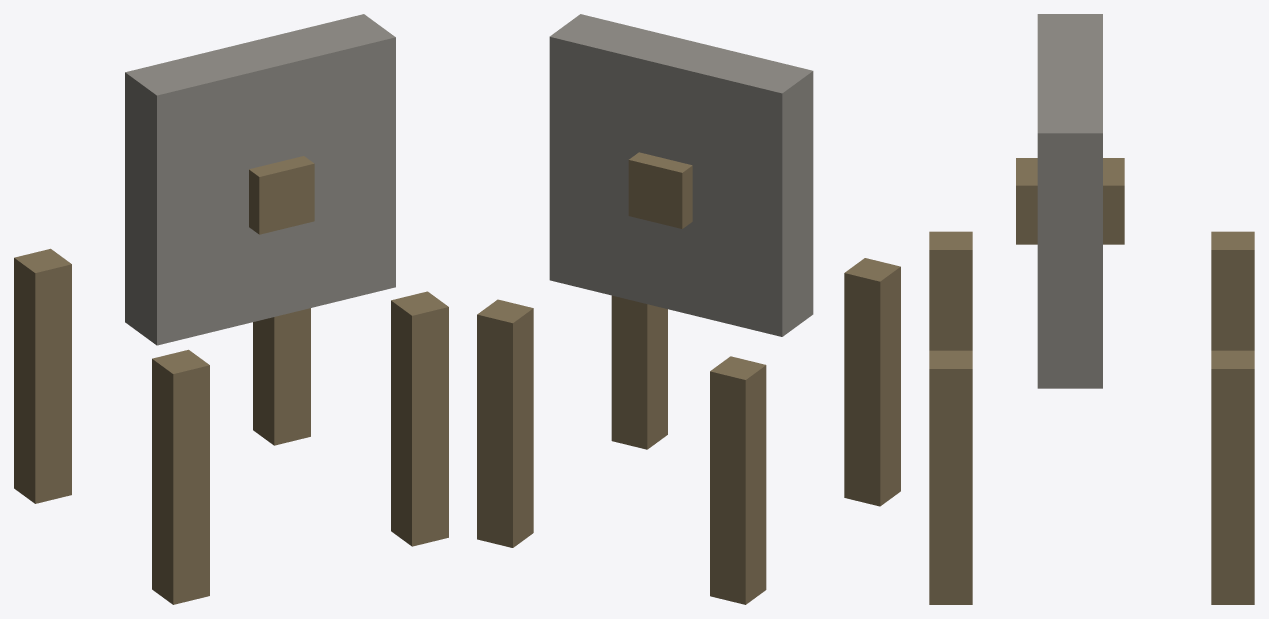
Rendered from rueda_afilar_tejo_01.glb.
The picture shows the model from 3 angles, left to right: view 1: azimuth 30°, elevation 25°; view 2: azimuth 150°, elevation 25°; view 3: azimuth 270°, elevation 25°; orthographic projection. The views are drawn at different scales.
Parts seen in each view (by area): view 1: rueda_afilar_tejo; view 2: rueda_afilar_tejo; view 3: rueda_afilar_tejo.
Part boxes in pixels (x1,y1,x2,y2): rueda_afilar_tejo: (14,14,448,604); rueda_afilar_tejo: (477,14,900,604); rueda_afilar_tejo: (929,14,1254,604).
Bounding box in the file's own units: 1 × 1.6 × 1.
